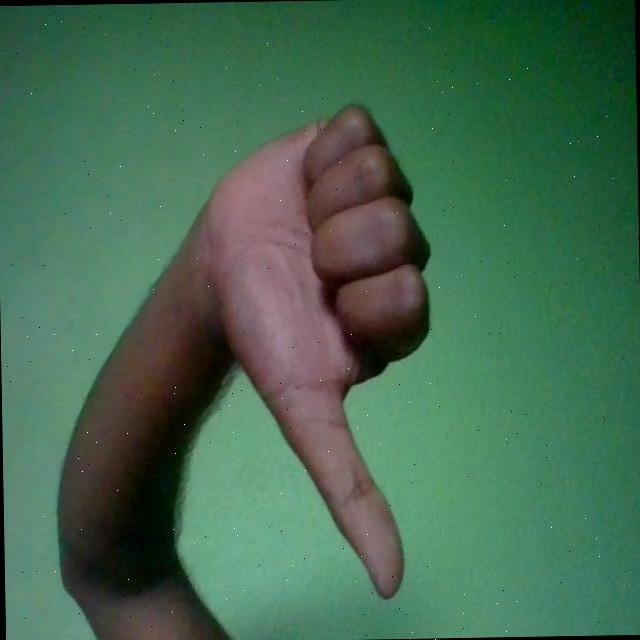Dislike: (200, 103, 434, 603)
